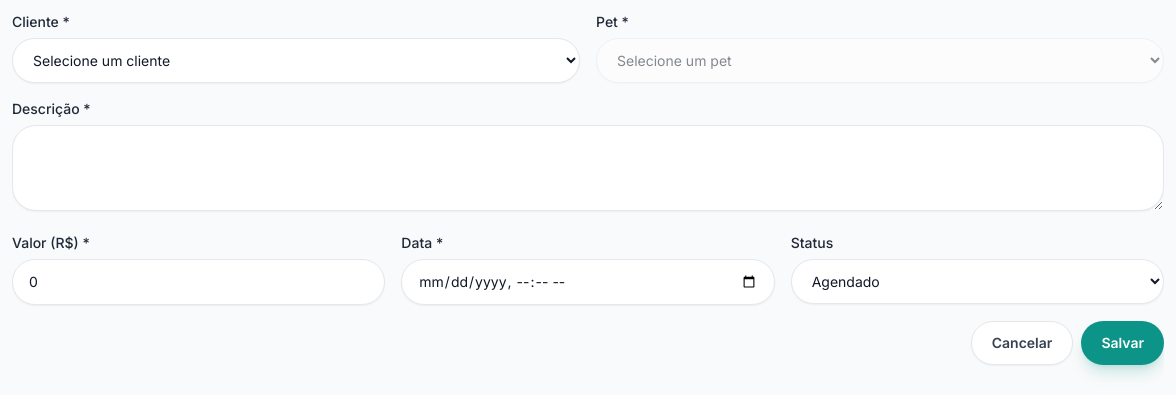
AppointmentForm › filtra pets pelo cliente selecionado
The width and height of the screenshot is (1176, 395).
Expected: the dropdown below "Pet *" is disabled, [596,38,1164,83]
Select "Cliente A" in the dropdown below "Cliente *" at [296, 60], box [12,38,580,83]
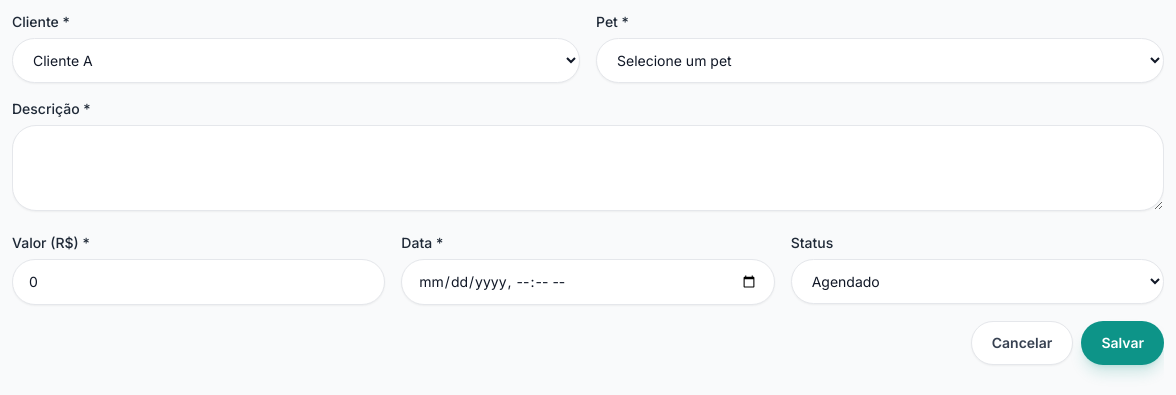
Expected: the dropdown below "Pet *" is enabled, [596,38,1164,83]
